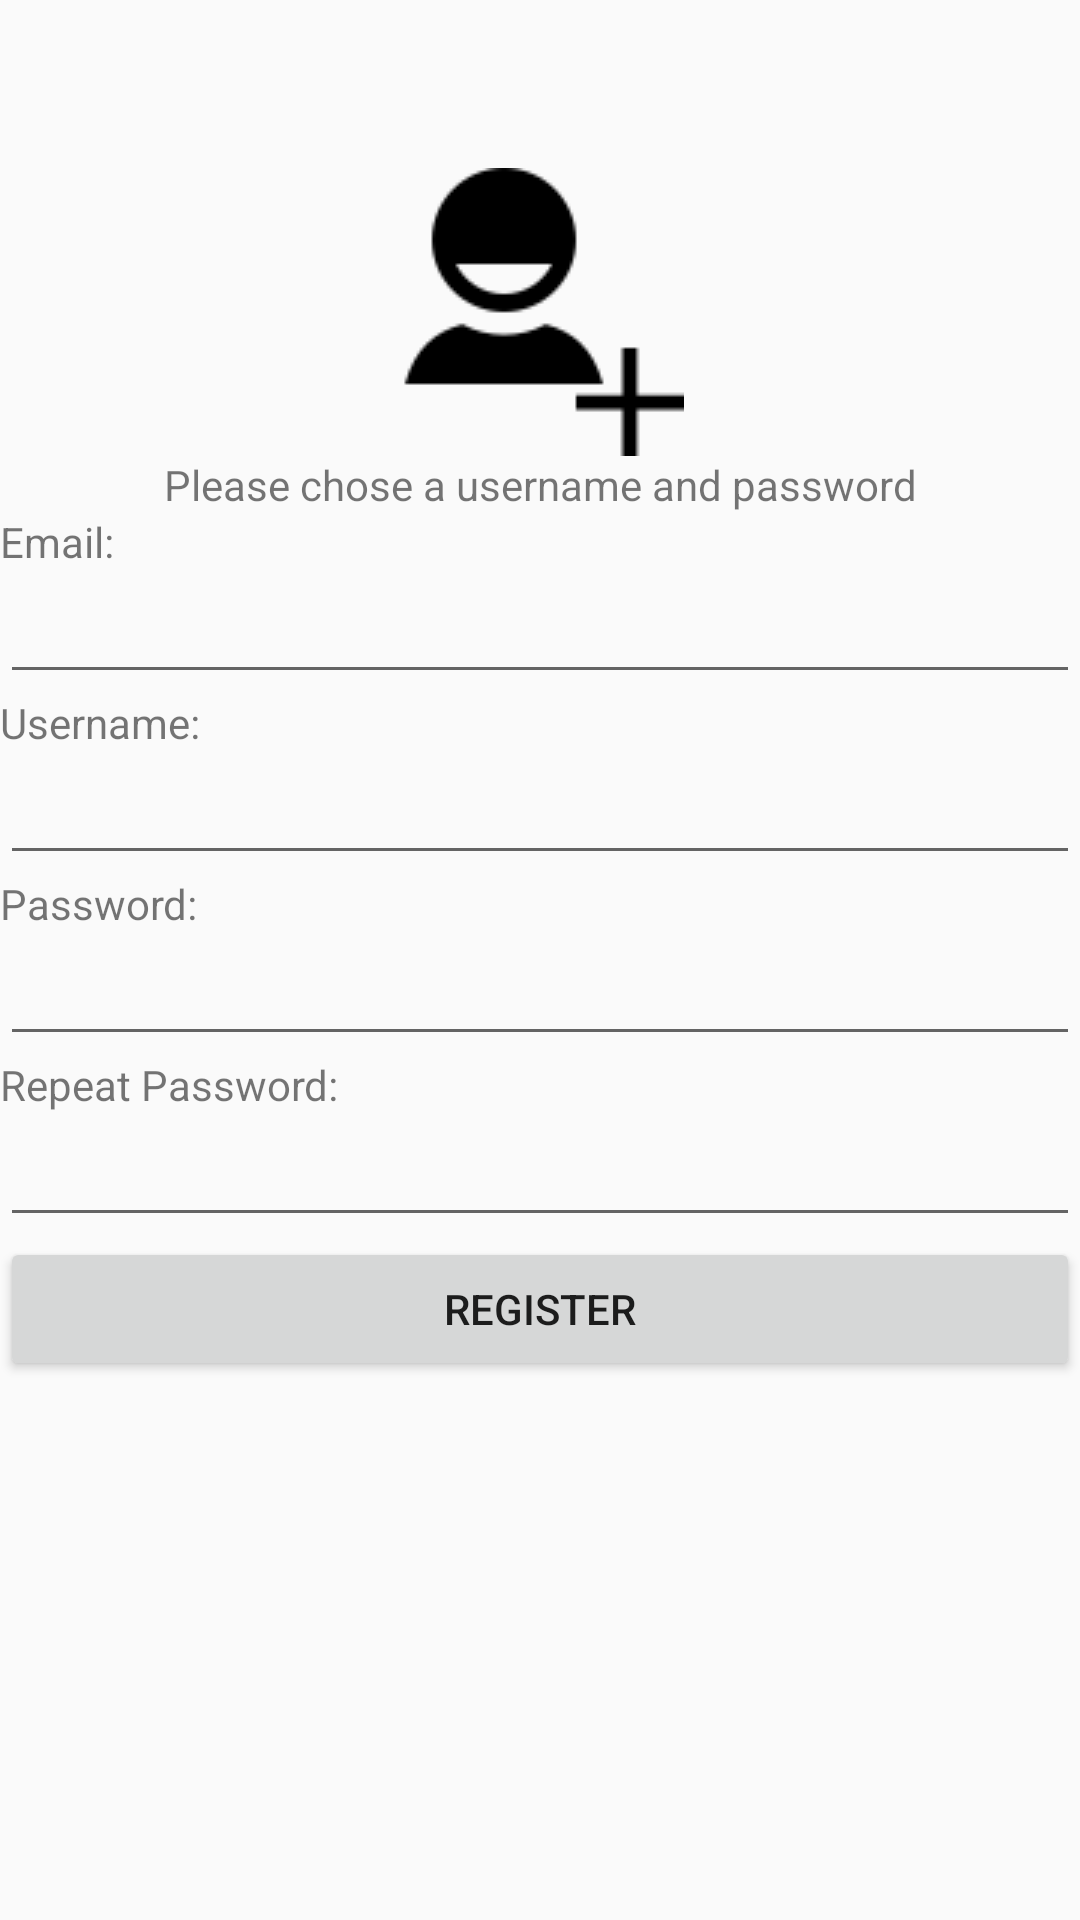

Where icons sit on this 1080 × 1920 app screen, as bbox=(x1, y1, x2, y2):
add user male: bbox=(404, 168, 684, 456)
